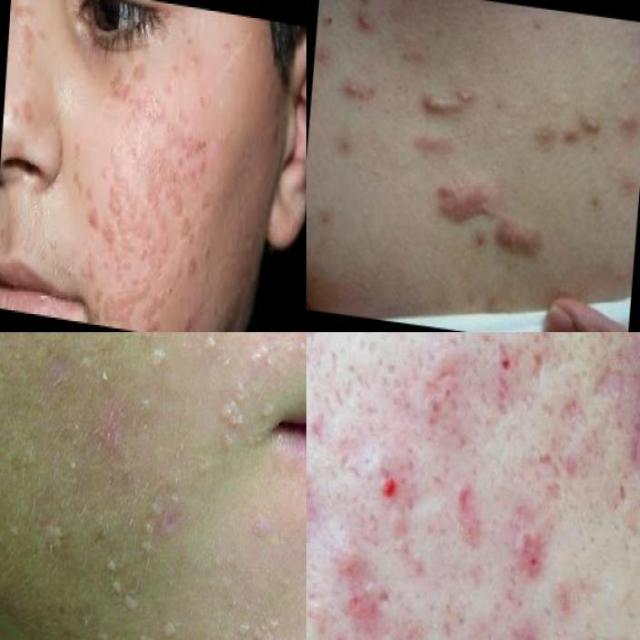Pimples: (428, 170, 496, 230), (483, 366, 531, 438), (213, 381, 251, 462), (609, 420, 640, 516), (490, 214, 547, 266), (101, 396, 143, 462), (154, 495, 198, 553), (594, 356, 632, 416), (344, 0, 382, 48), (556, 392, 589, 435), (414, 93, 459, 119), (577, 109, 605, 138), (341, 74, 366, 102), (250, 624, 274, 640)
